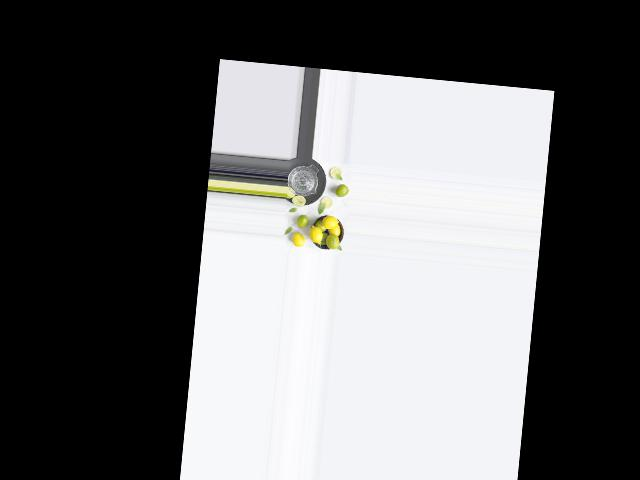lemon: (336, 183, 348, 198)
